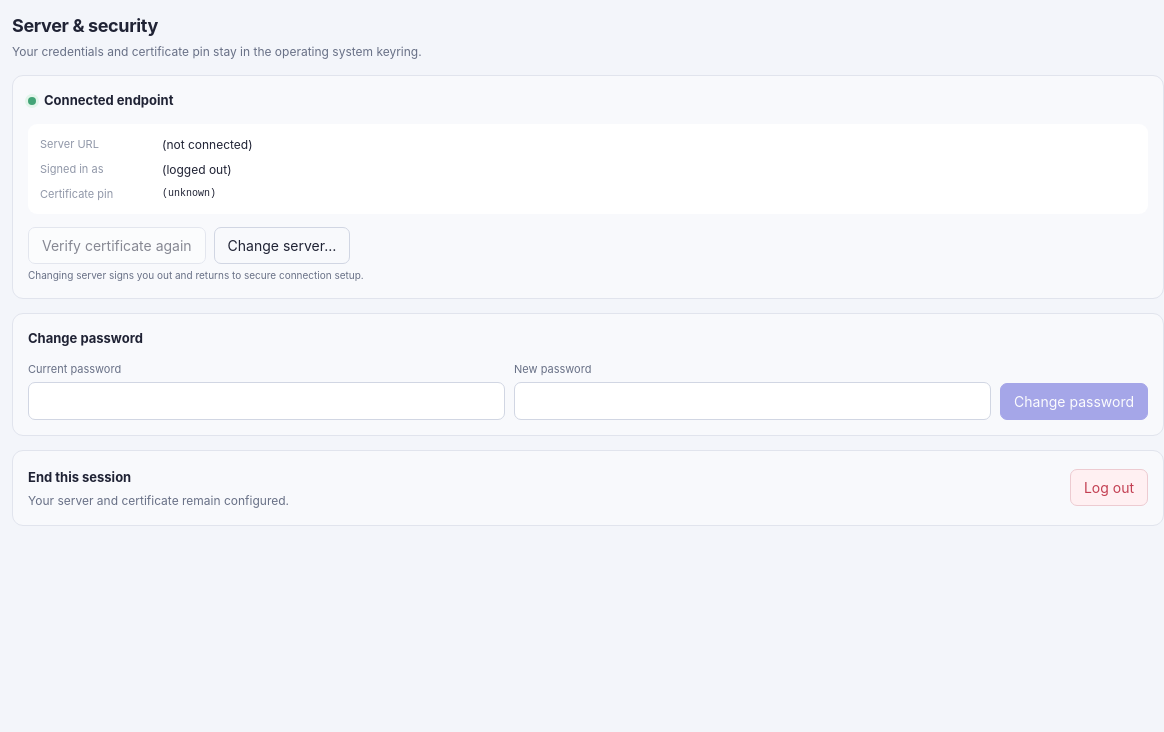
SettingsServer › on 401 (wrong current password) clears only old-password and shows a friendly message
Type "wrong-old" into the password field with test id "old-password".
click(266, 401); type("wrong-old")  # box [28, 382, 505, 420]
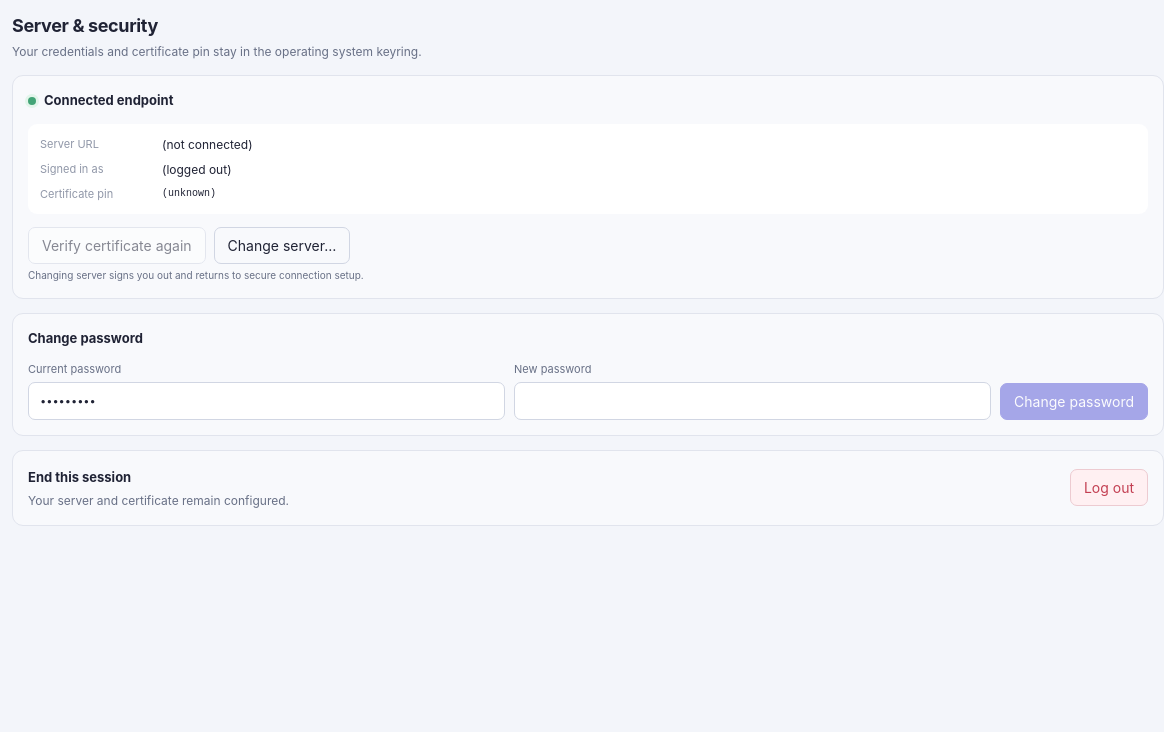
Type "new" into the password field with test id "new-password".
click(753, 401); type("new")  # box [514, 382, 991, 420]
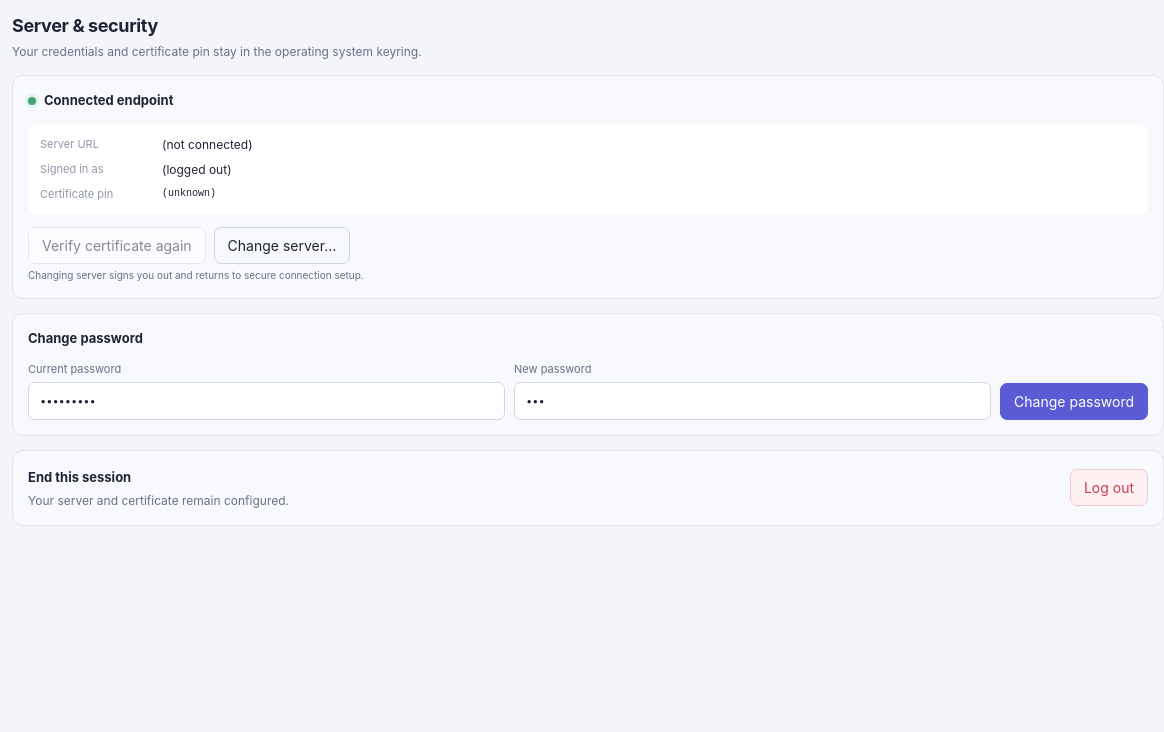
Click the button with test id "change-password-submit".
click(1074, 402)  # box [1000, 383, 1148, 420]
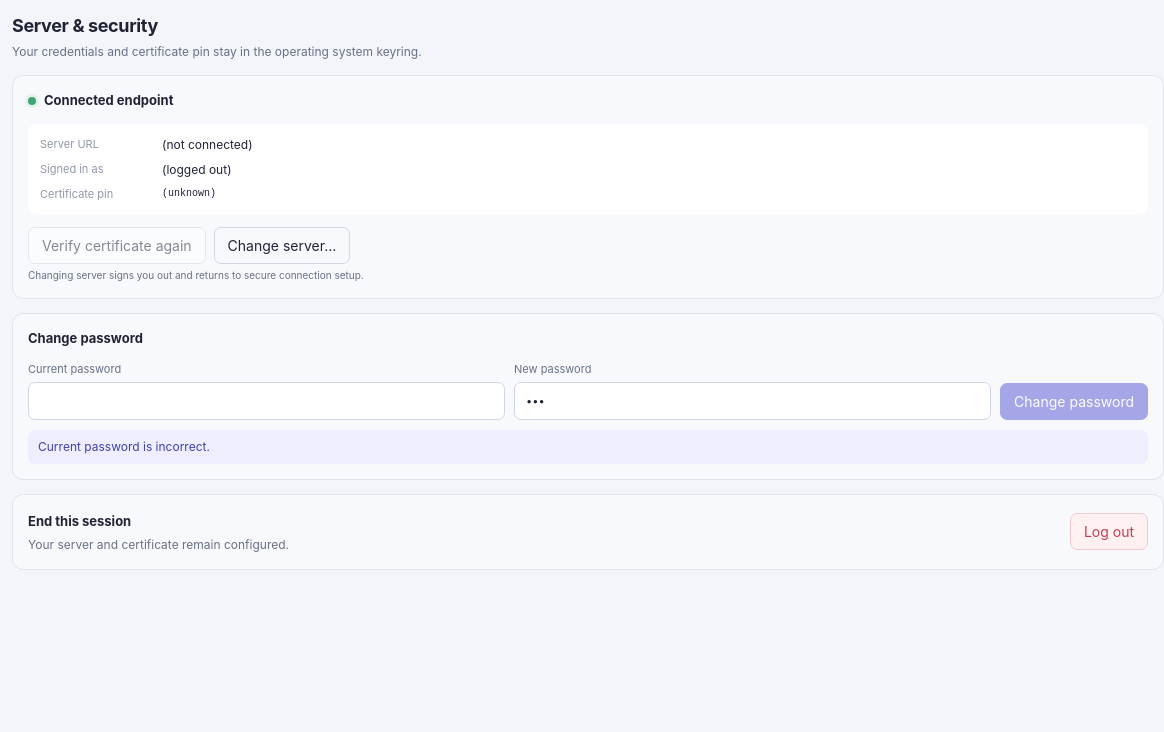
Expected: the password field with test id "old-password" is empty, [28, 382, 505, 420]
Expected: the text with test id "change-password-message" shows "Current password is incorrect", [38, 439, 210, 454]
